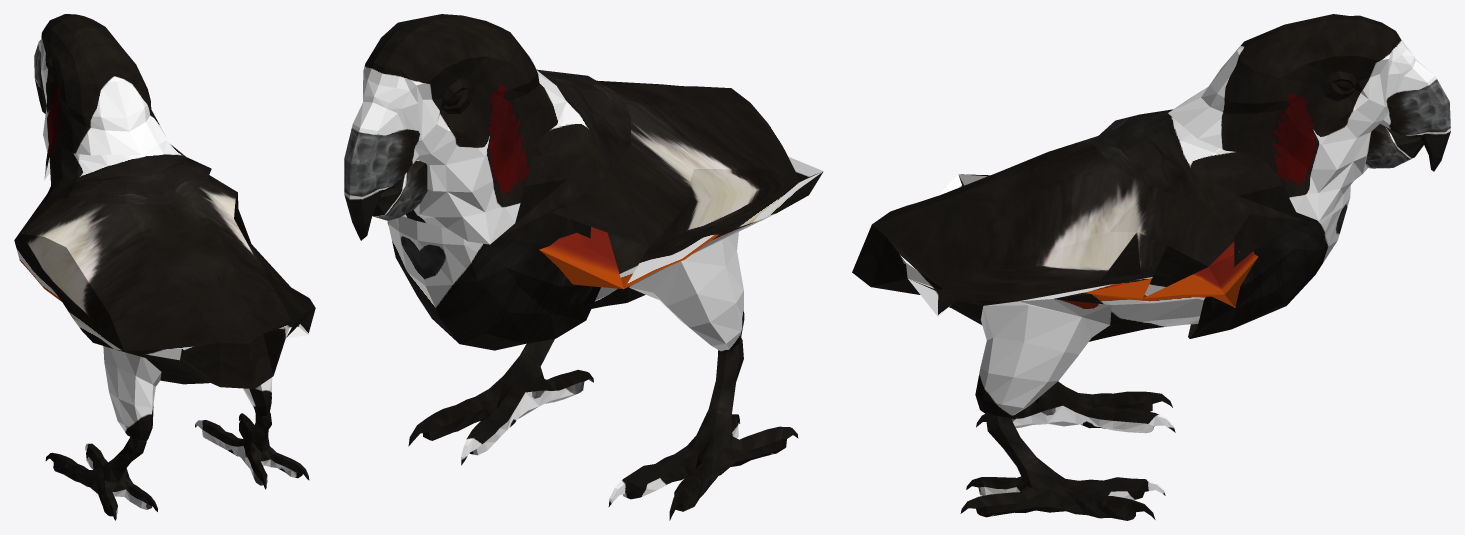
The model's file is corpo.obj.
3 views of the same model, side by side, from view 1: azimuth 30°, elevation 25°; view 2: azimuth 150°, elevation 25°; view 3: azimuth 270°, elevation 25° (orthographic). The views are drawn at different scales.
Visible parts, largest first — view 1: corpo.002_FSGD4WGTLHUBHEAEXVTUQAYRU; view 2: corpo.002_FSGD4WGTLHUBHEAEXVTUQAYRU; view 3: corpo.002_FSGD4WGTLHUBHEAEXVTUQAYRU.
Boxes of the visible parts, left/top/right/bottom form: corpo.002_FSGD4WGTLHUBHEAEXVTUQAYRU: left=14, top=14, right=315, bottom=520; corpo.002_FSGD4WGTLHUBHEAEXVTUQAYRU: left=344, top=14, right=823, bottom=520; corpo.002_FSGD4WGTLHUBHEAEXVTUQAYRU: left=852, top=14, right=1450, bottom=520.
Bounding box in the file's own units: 0.7655 × 1.26 × 1.5.
